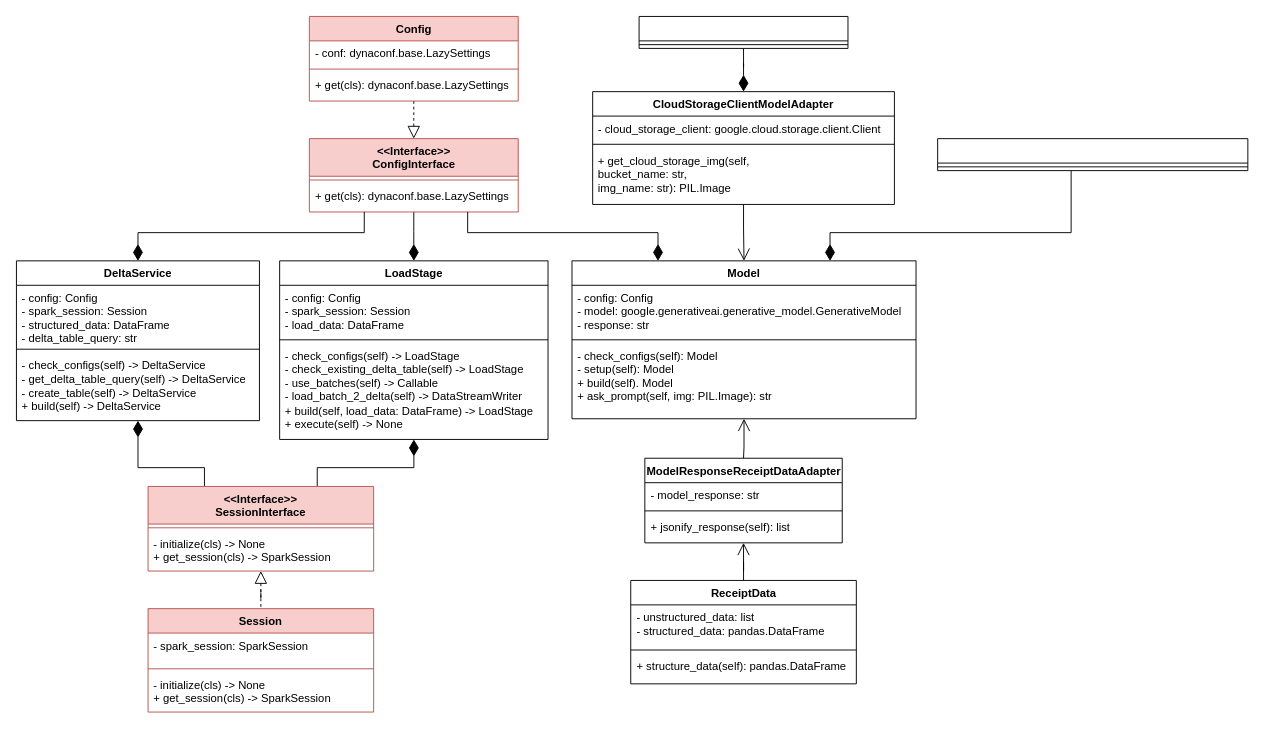
The diagram is 1264 pixels wide and 731 high, and some of its shapes have lost their labels. Each missing label, with the centre of its shape:
"google.cloud.storage.client.Client" belongs at (x=743, y=32).
"google.generativeai.generative_model.GenerativeModel" belongs at (x=1092, y=154).
